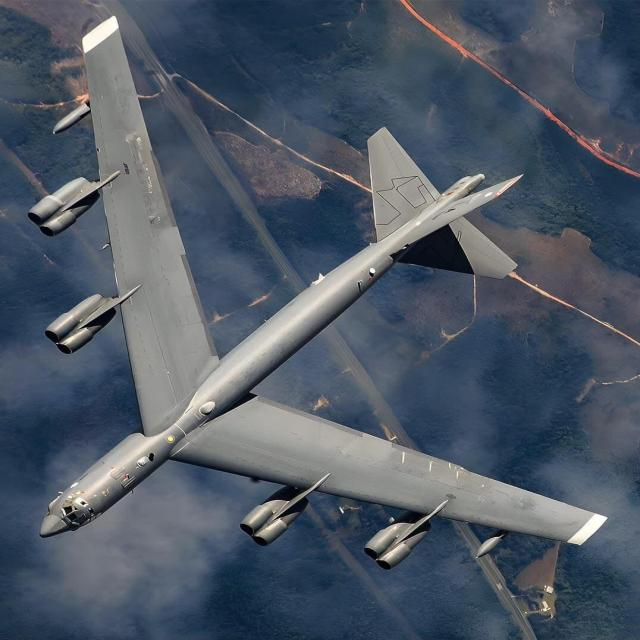B52: (22, 8, 640, 569)
